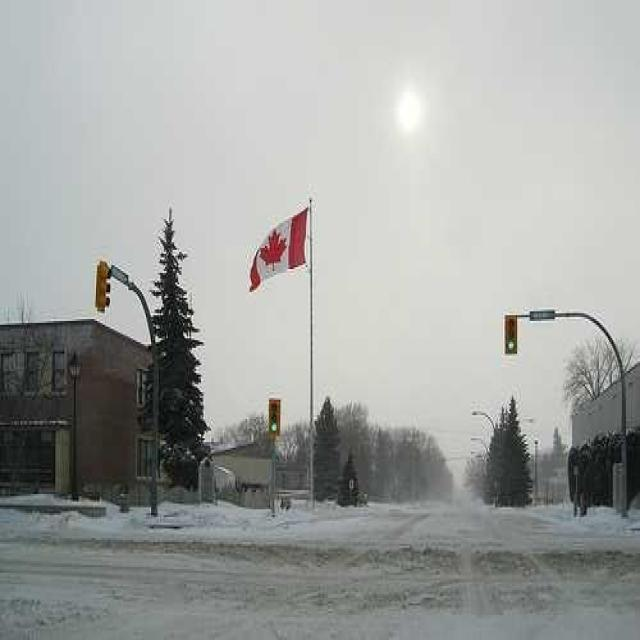Traffic Light -Green-: (504, 313, 518, 354), (268, 398, 282, 434)
